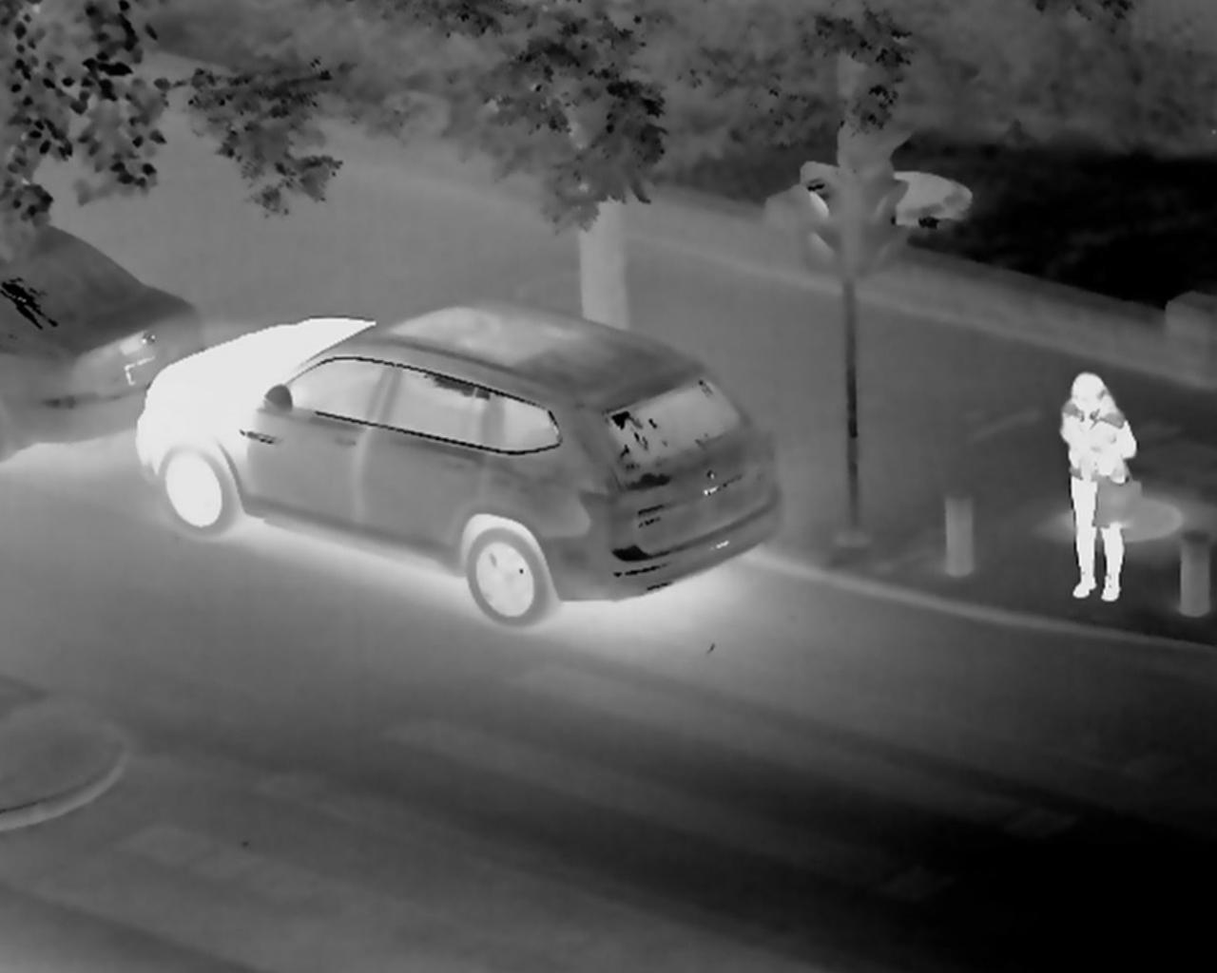person: (1051, 370, 1130, 620)
